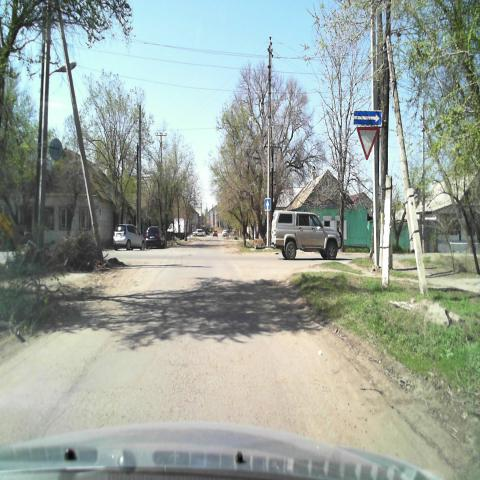2_4: (356, 126, 378, 162)
5_7_1: (354, 108, 382, 125)
